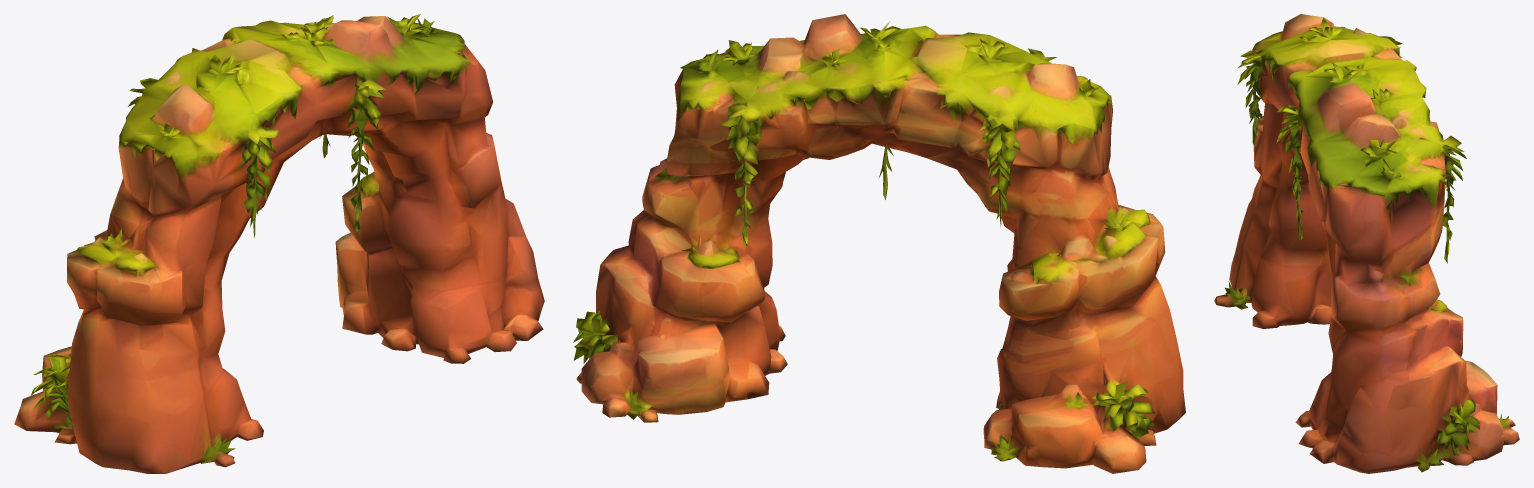
The model's file is arco.glb.
The picture shows the model from 3 angles, left to right: view 1: azimuth 30°, elevation 25°; view 2: azimuth 150°, elevation 25°; view 3: azimuth 270°, elevation 25°; orthographic projection. The views are drawn at different scales.
Parts seen in each view (by area): view 1: arco; view 2: arco; view 3: arco.
Boxes of the visible parts, bbox=[...] form: arco: bbox=[14, 14, 544, 473]; arco: bbox=[573, 14, 1185, 473]; arco: bbox=[1214, 14, 1519, 473].
Bounding box in the file's own units: 1 × 0.643 × 0.5796.
1 material, 1 textured.
